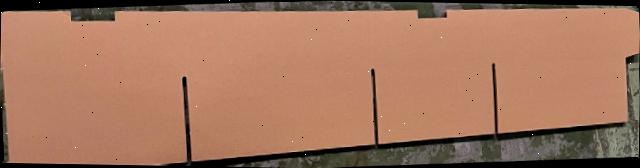box: (2, 8, 639, 165)
